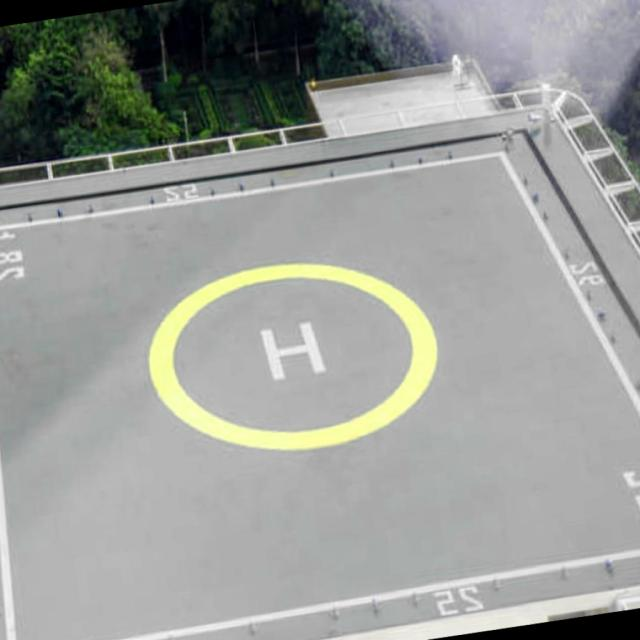helipad: (138, 254, 444, 456)
